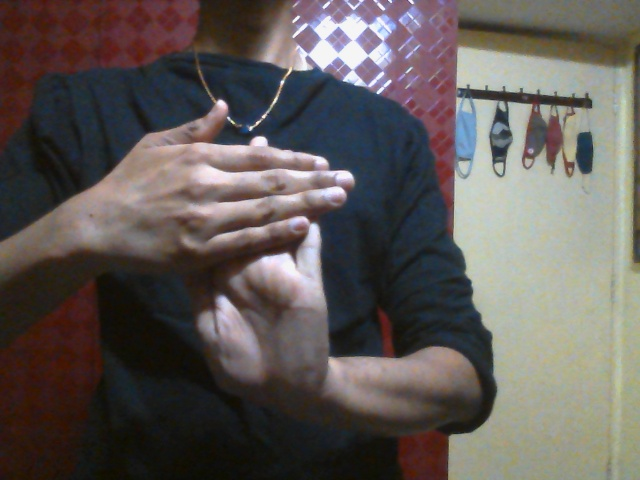H: (108, 98, 353, 413)
